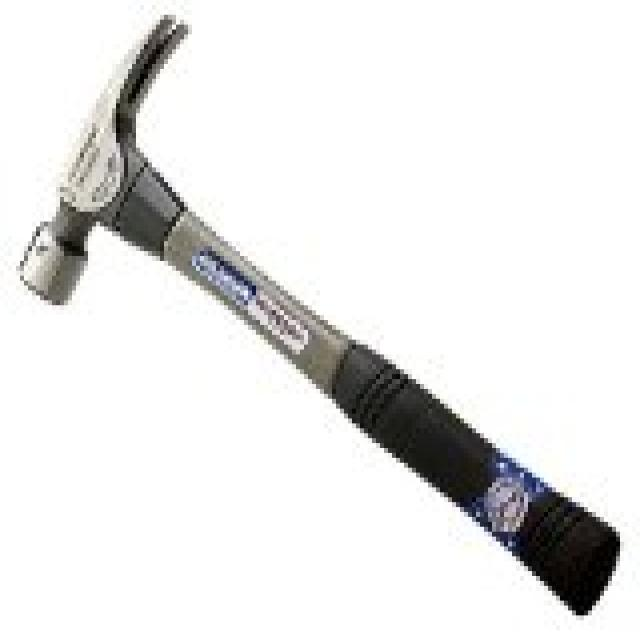hammer: (14, 9, 584, 482)
